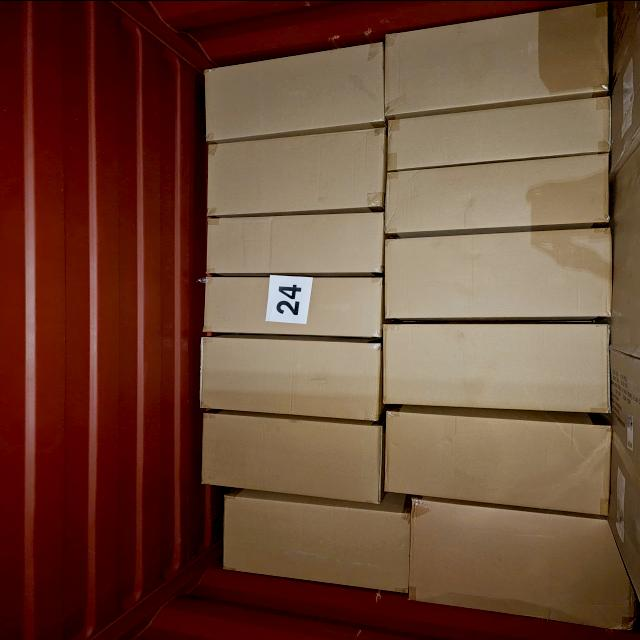Carton: (411, 506, 640, 624), (380, 13, 608, 108), (390, 414, 618, 508), (390, 222, 620, 312), (390, 319, 616, 407), (384, 92, 612, 172), (390, 158, 618, 232), (216, 497, 412, 583), (199, 44, 384, 131), (202, 130, 384, 212), (198, 417, 380, 497), (197, 336, 380, 414), (204, 272, 384, 332), (203, 217, 385, 274)
